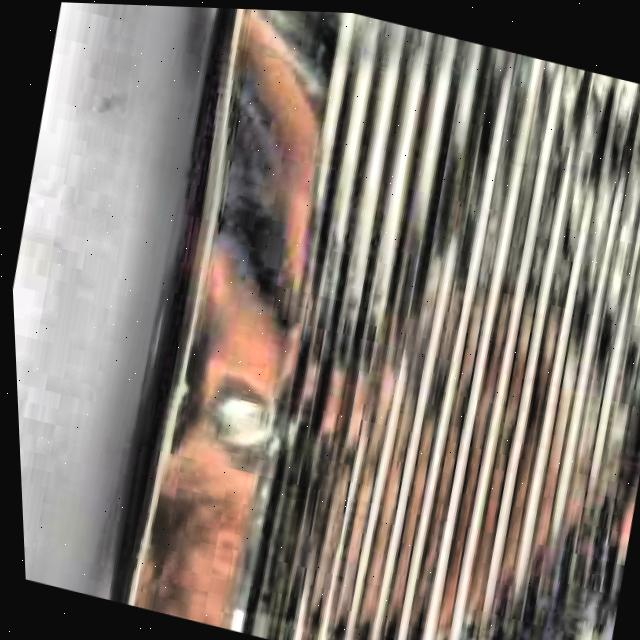metal: (106, 6, 640, 640)
